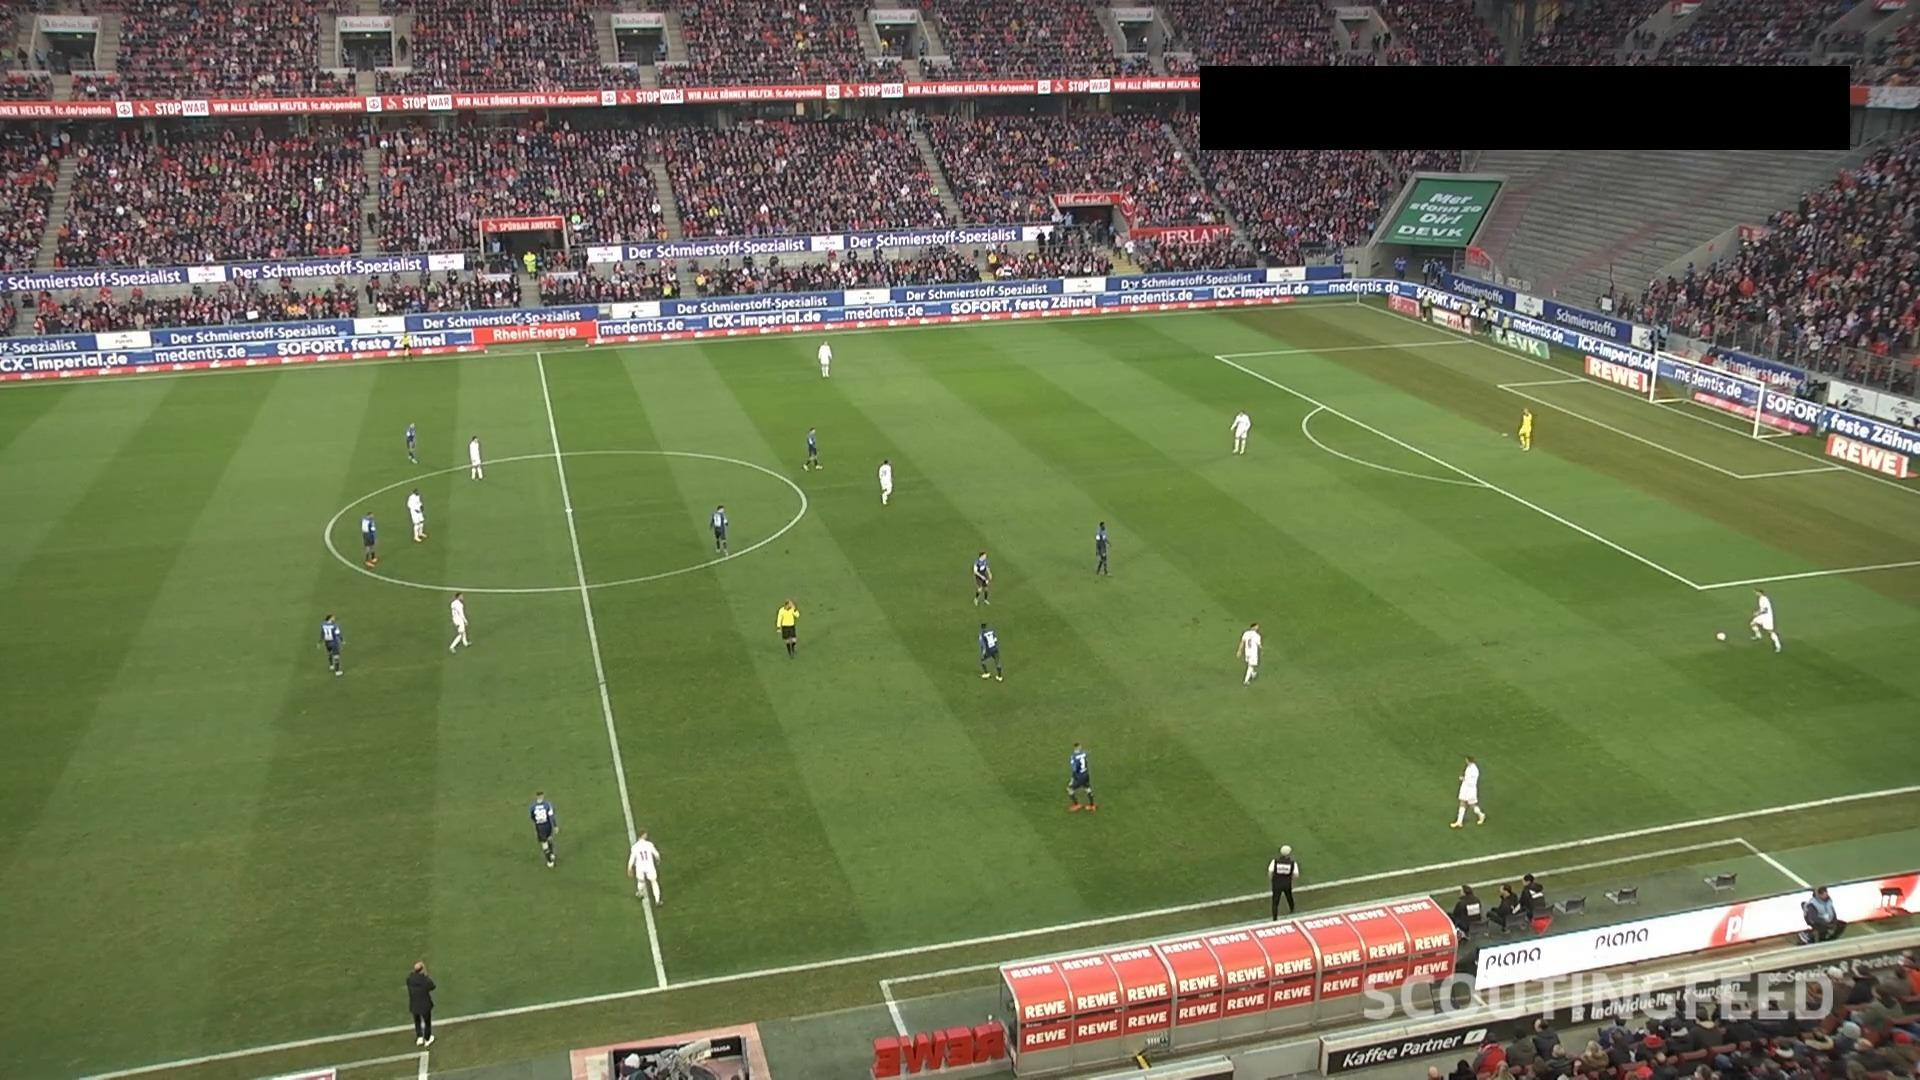ball: (1714, 630, 1729, 642)
